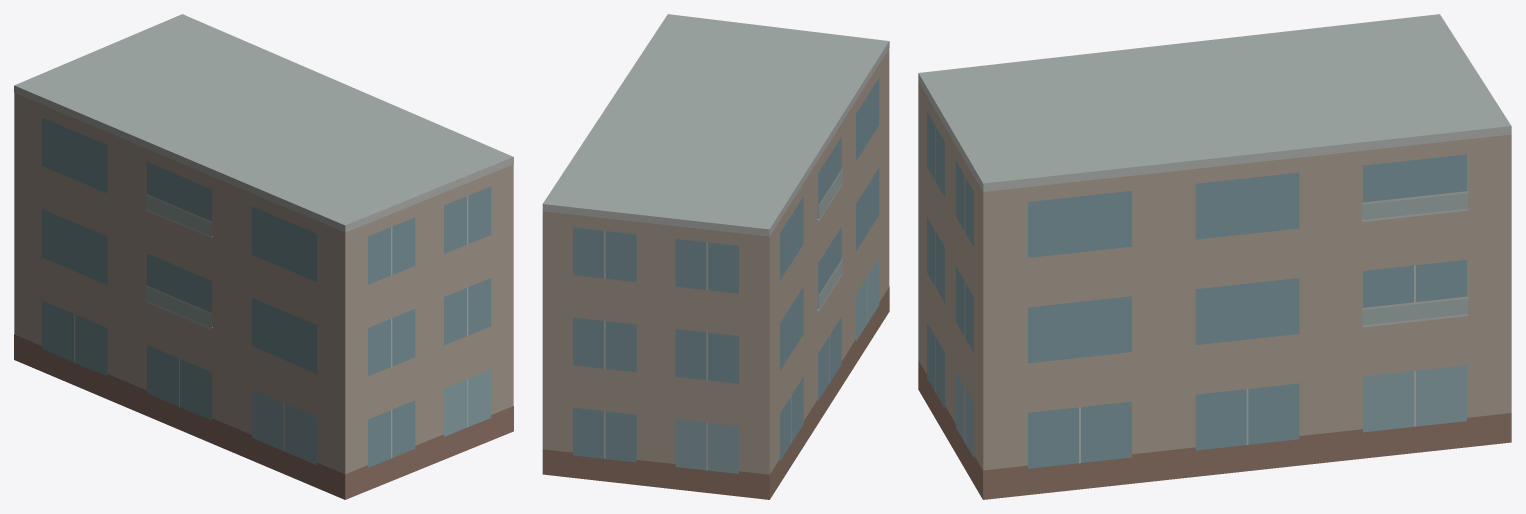
The model's file is survey-upis-32569392.glb.
3 renders of one model, left to right at view 1: azimuth 30°, elevation 25°; view 2: azimuth 150°, elevation 25°; view 3: azimuth 270°, elevation 25°, orthographic. The views are drawn at different scales.
Parts seen in each view (by area): view 1: survey-upis-32569392.tmp; view 2: survey-upis-32569392.tmp; view 3: survey-upis-32569392.tmp.
Part boxes in pixels (left/top/right/bottom): survey-upis-32569392.tmp: left=14, top=14, right=513, bottom=499; survey-upis-32569392.tmp: left=542, top=14, right=889, bottom=499; survey-upis-32569392.tmp: left=918, top=14, right=1511, bottom=499.
Bounding box in the file's own units: 10.53 × 9.15 × 15.56.
